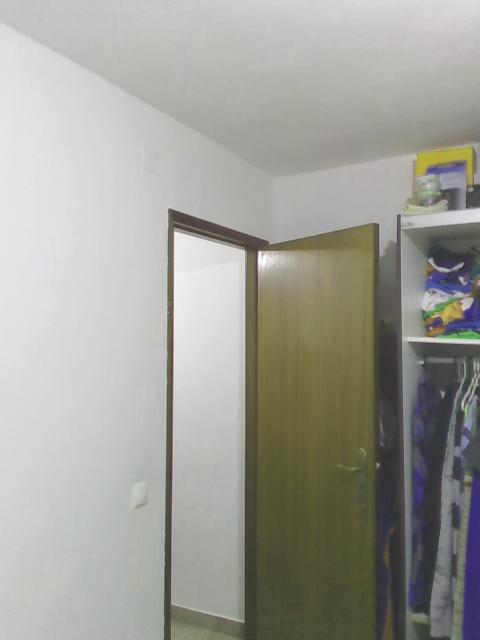open_door: (162, 207, 259, 639)
